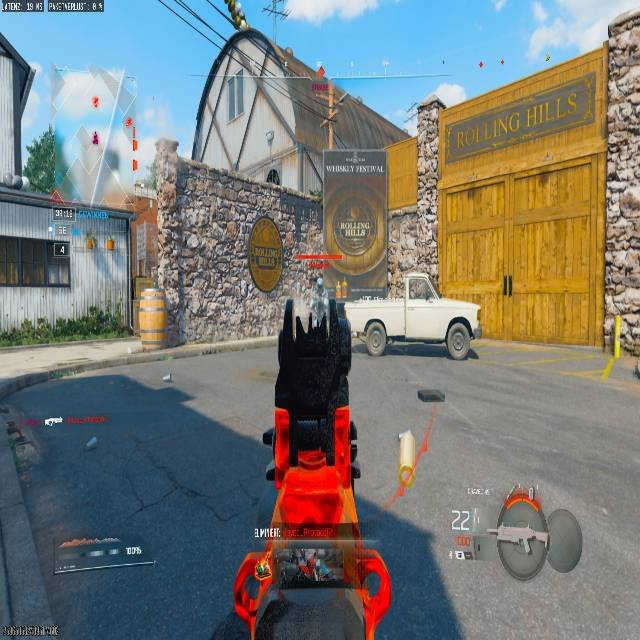player: (293, 266, 321, 331), (301, 269, 328, 318)
